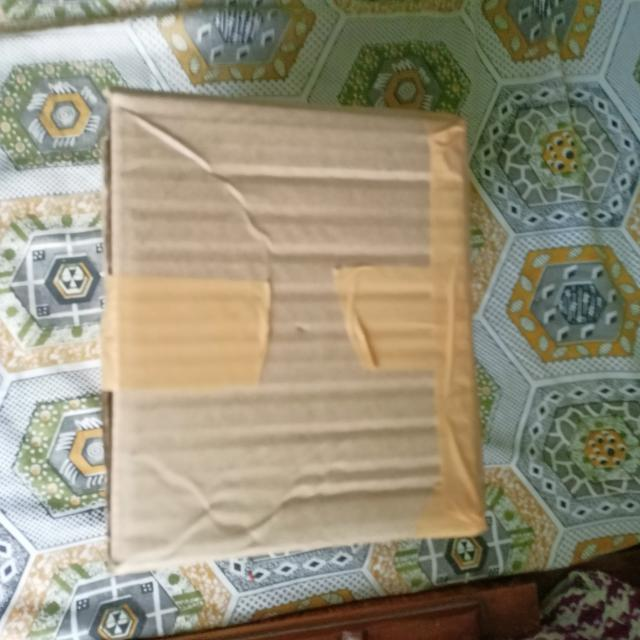box: (110, 93, 485, 577)
